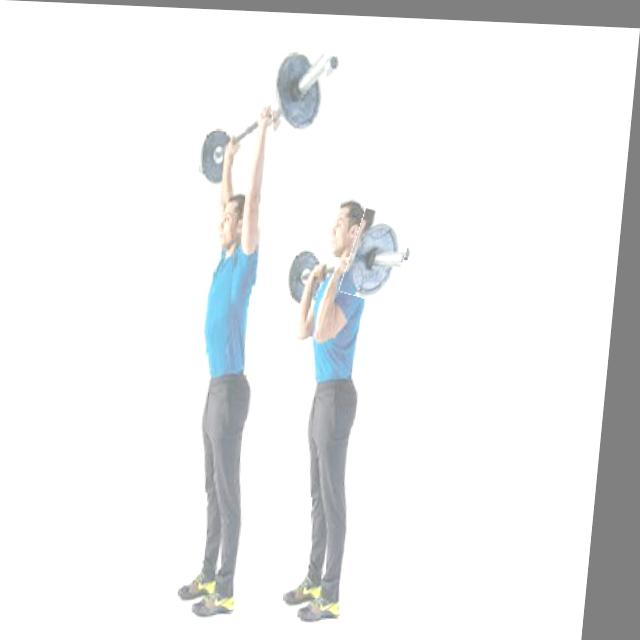barbell: (266, 40, 336, 135), (349, 208, 417, 300)
